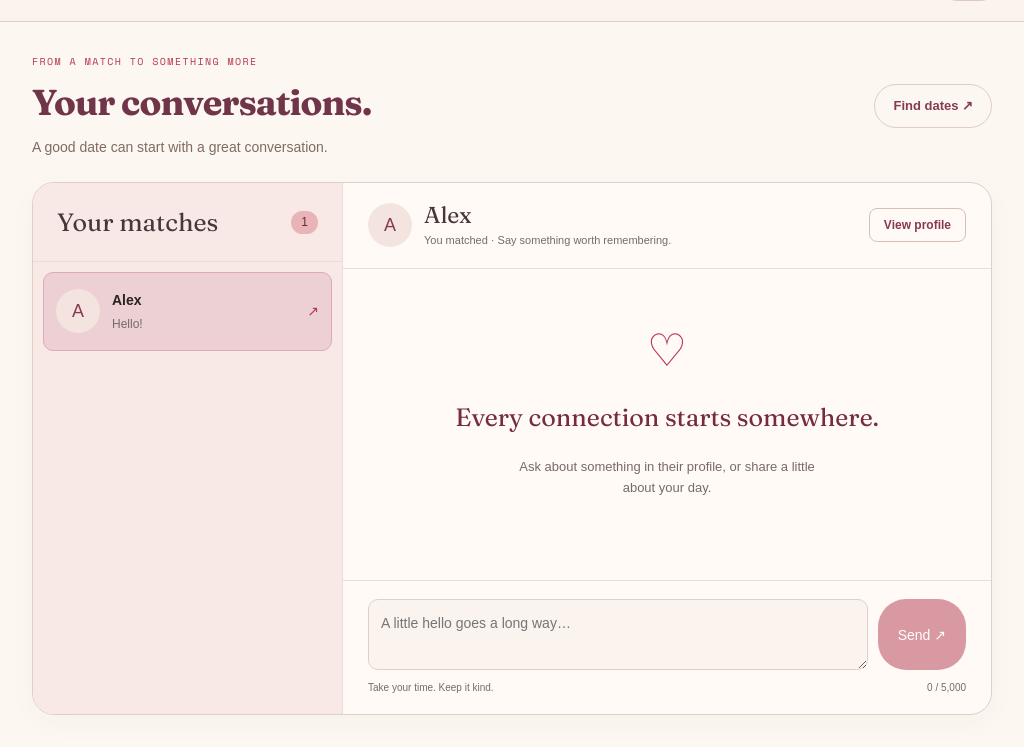
Test: views the chat partner's profile and returns to the same unsent draft
(page scrolled)
Type "My unsent hello" into the text box named "Message to Alex" at {"x": 618, "y": 635}, box top-left (368, 599), bottom-right (868, 670)
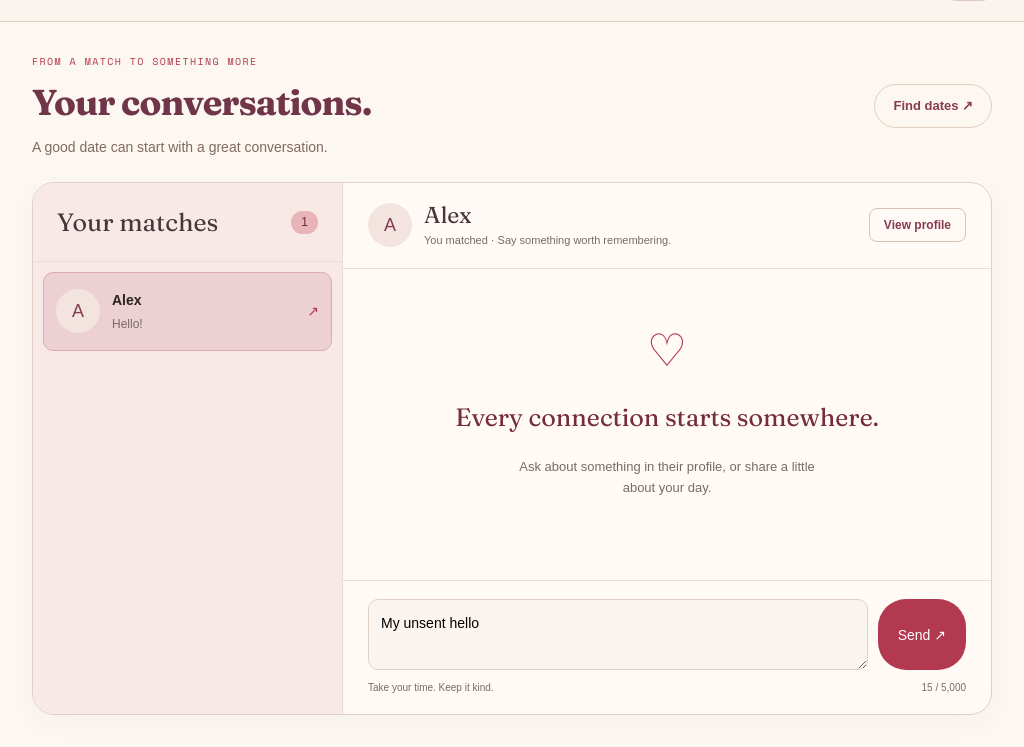
Click the button "View profile" at {"x": 917, "y": 225}, box top-left (869, 208), bottom-right (966, 242)
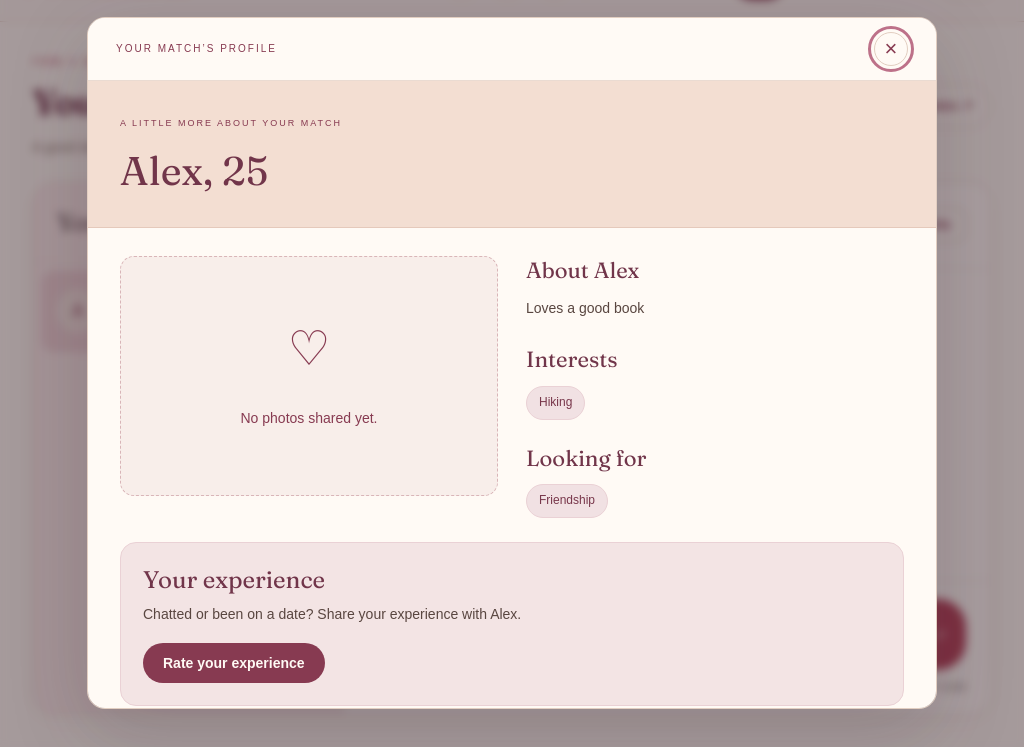
Expected: the text "Loves a good book" is shown, top-left (526, 300), bottom-right (644, 316)
Expected: the text "Hiking" is shown, top-left (526, 386), bottom-right (585, 420)
Click the button named "Close profile" at {"x": 891, "y": 49}, box top-left (874, 32), bottom-right (908, 66)
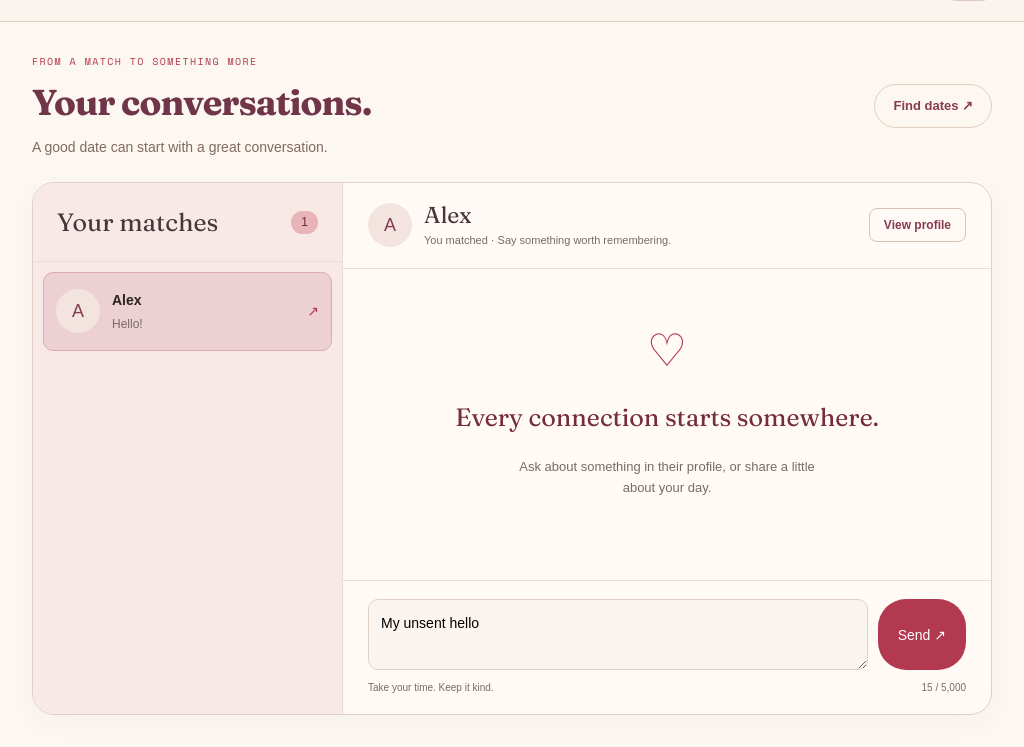
Expected: the dialog is gone
